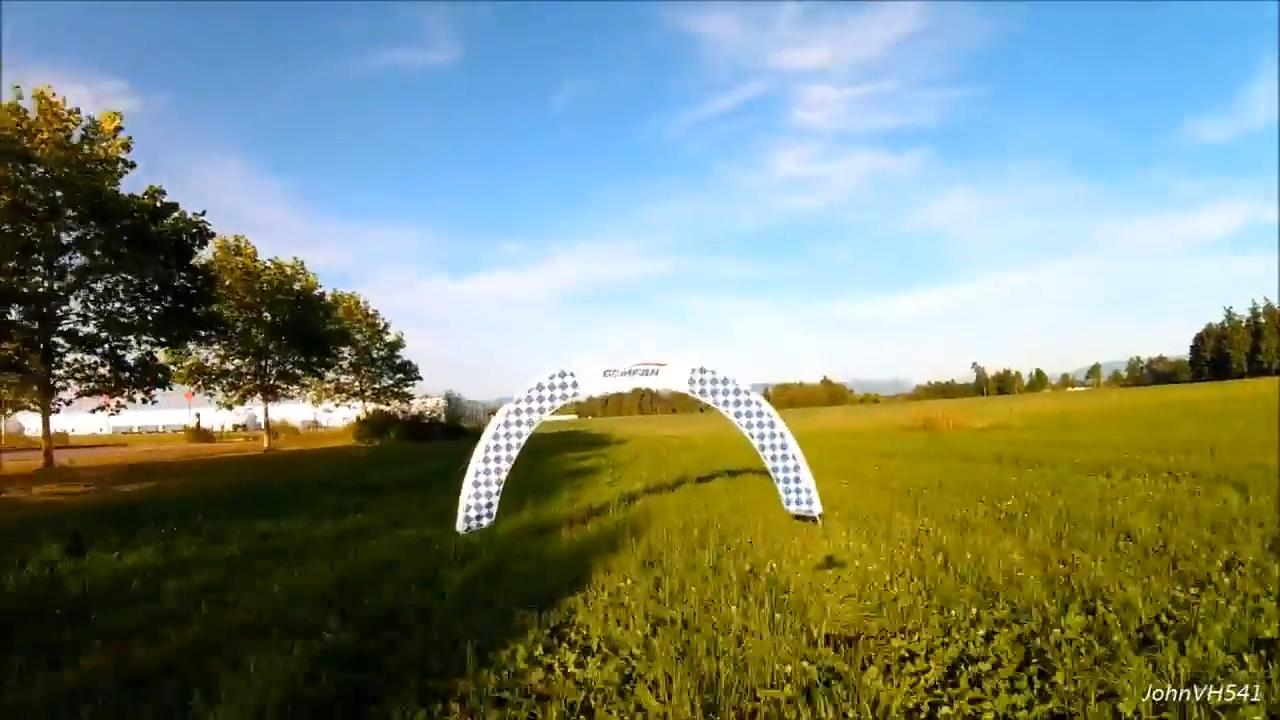gate: (453, 357, 823, 524)
